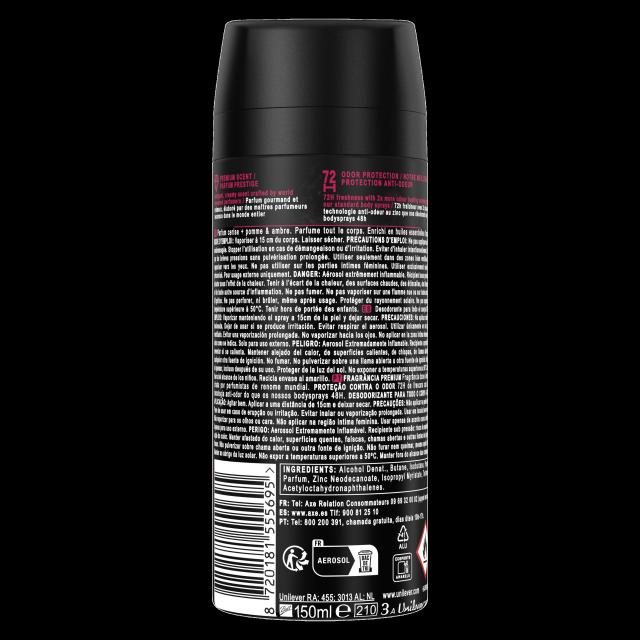GHS_Symbol_FLAME: (415, 519, 429, 580)
